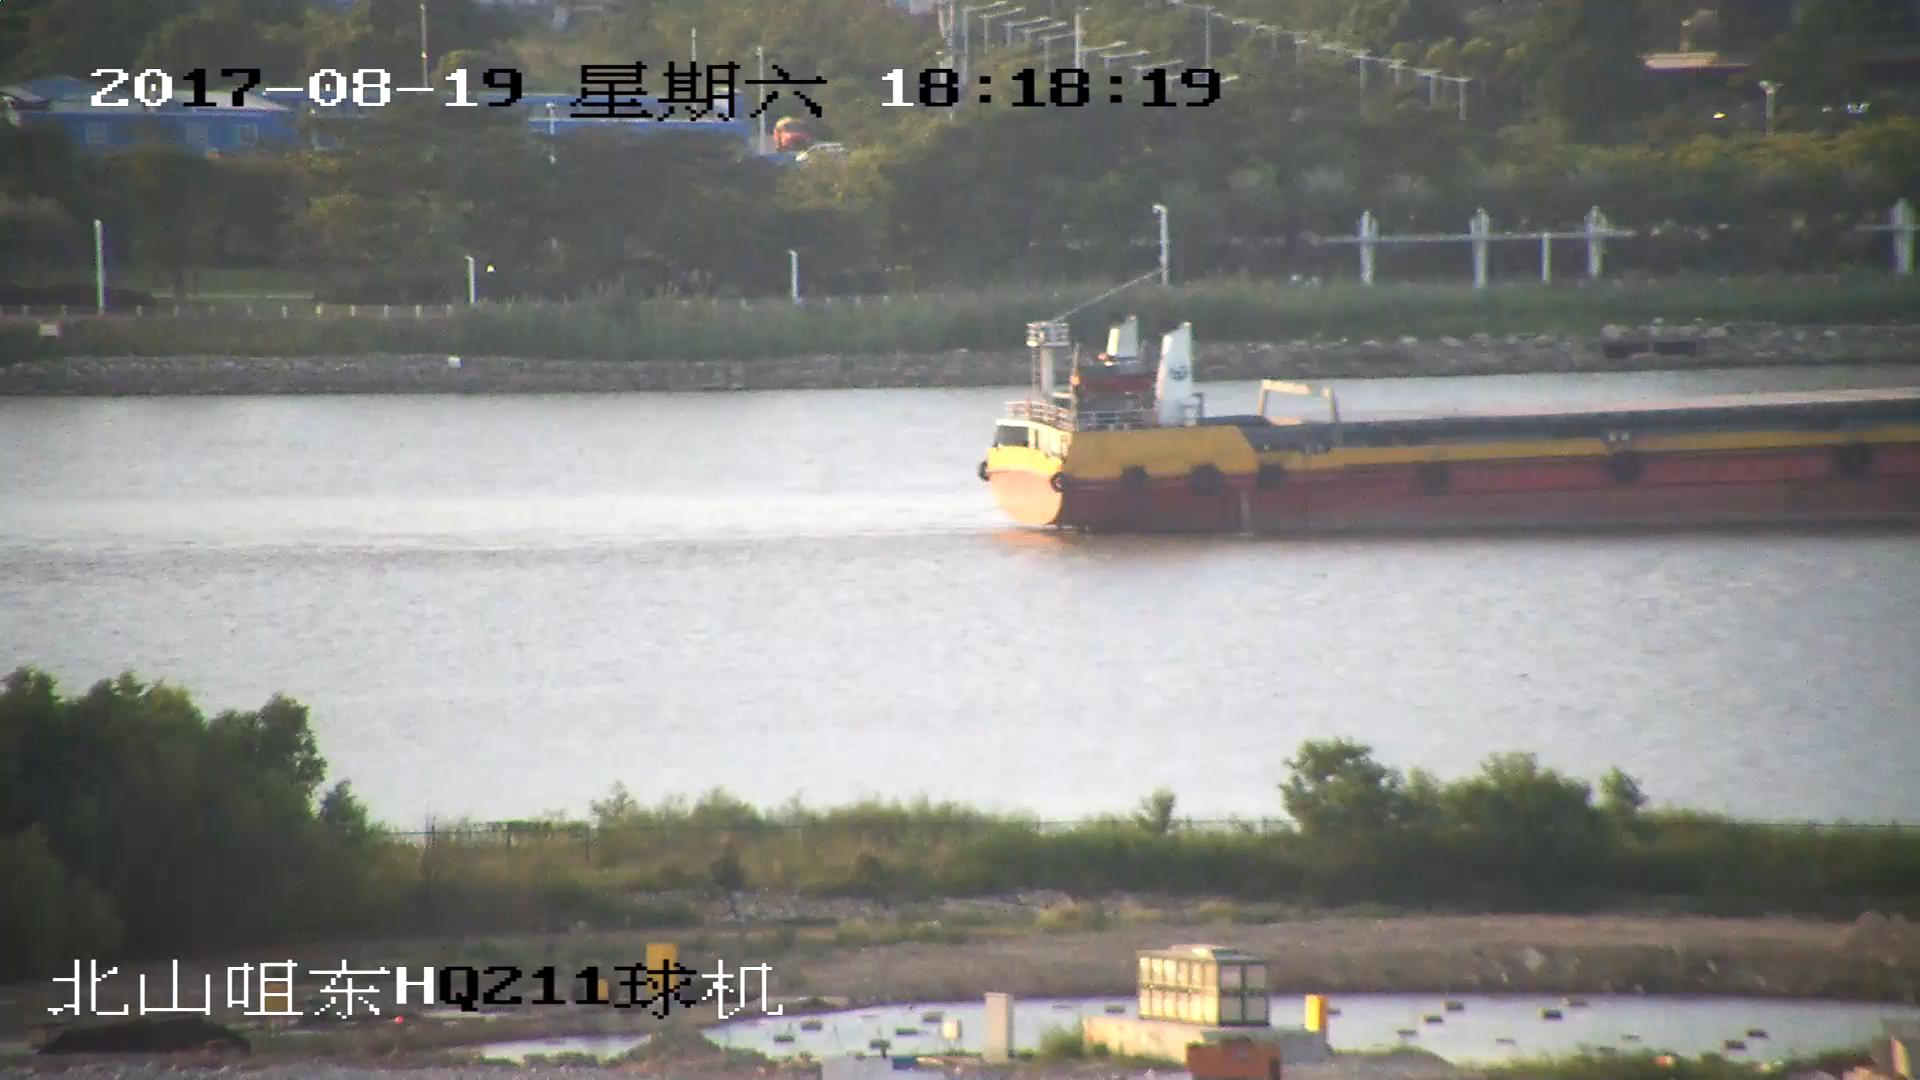general cargo ship: (978, 320, 1920, 531)
